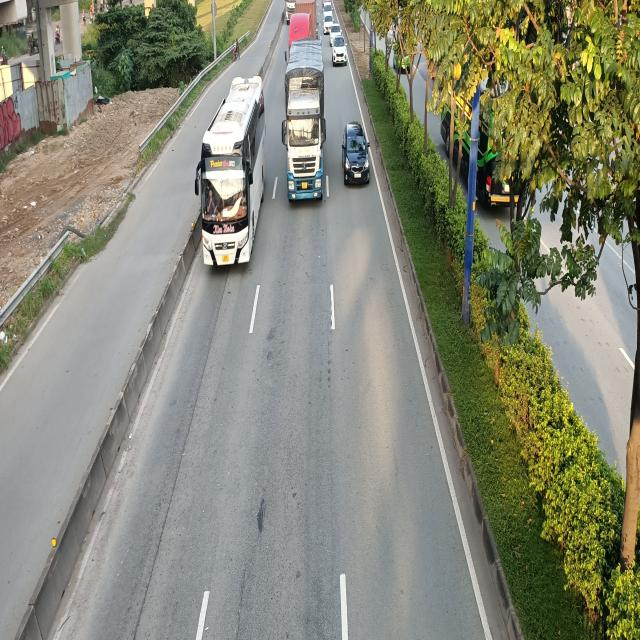car: (342, 120, 371, 186), (332, 30, 348, 66), (323, 14, 335, 35)
coach: (194, 80, 266, 265)
truck: (282, 39, 326, 200)
